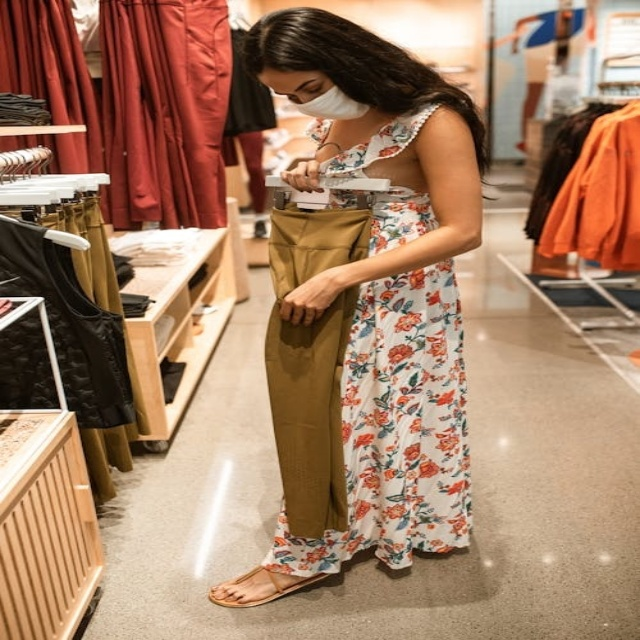Mascara: (291, 80, 373, 120)
Sin_gafas: (295, 78, 320, 91)
Sin_guantes: (280, 269, 352, 326), (279, 156, 328, 196)
